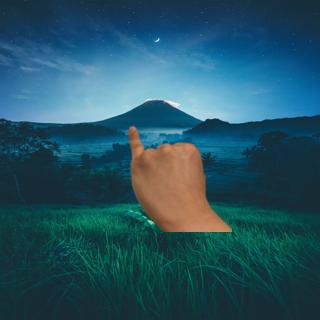FINE: (122, 122, 215, 227)
